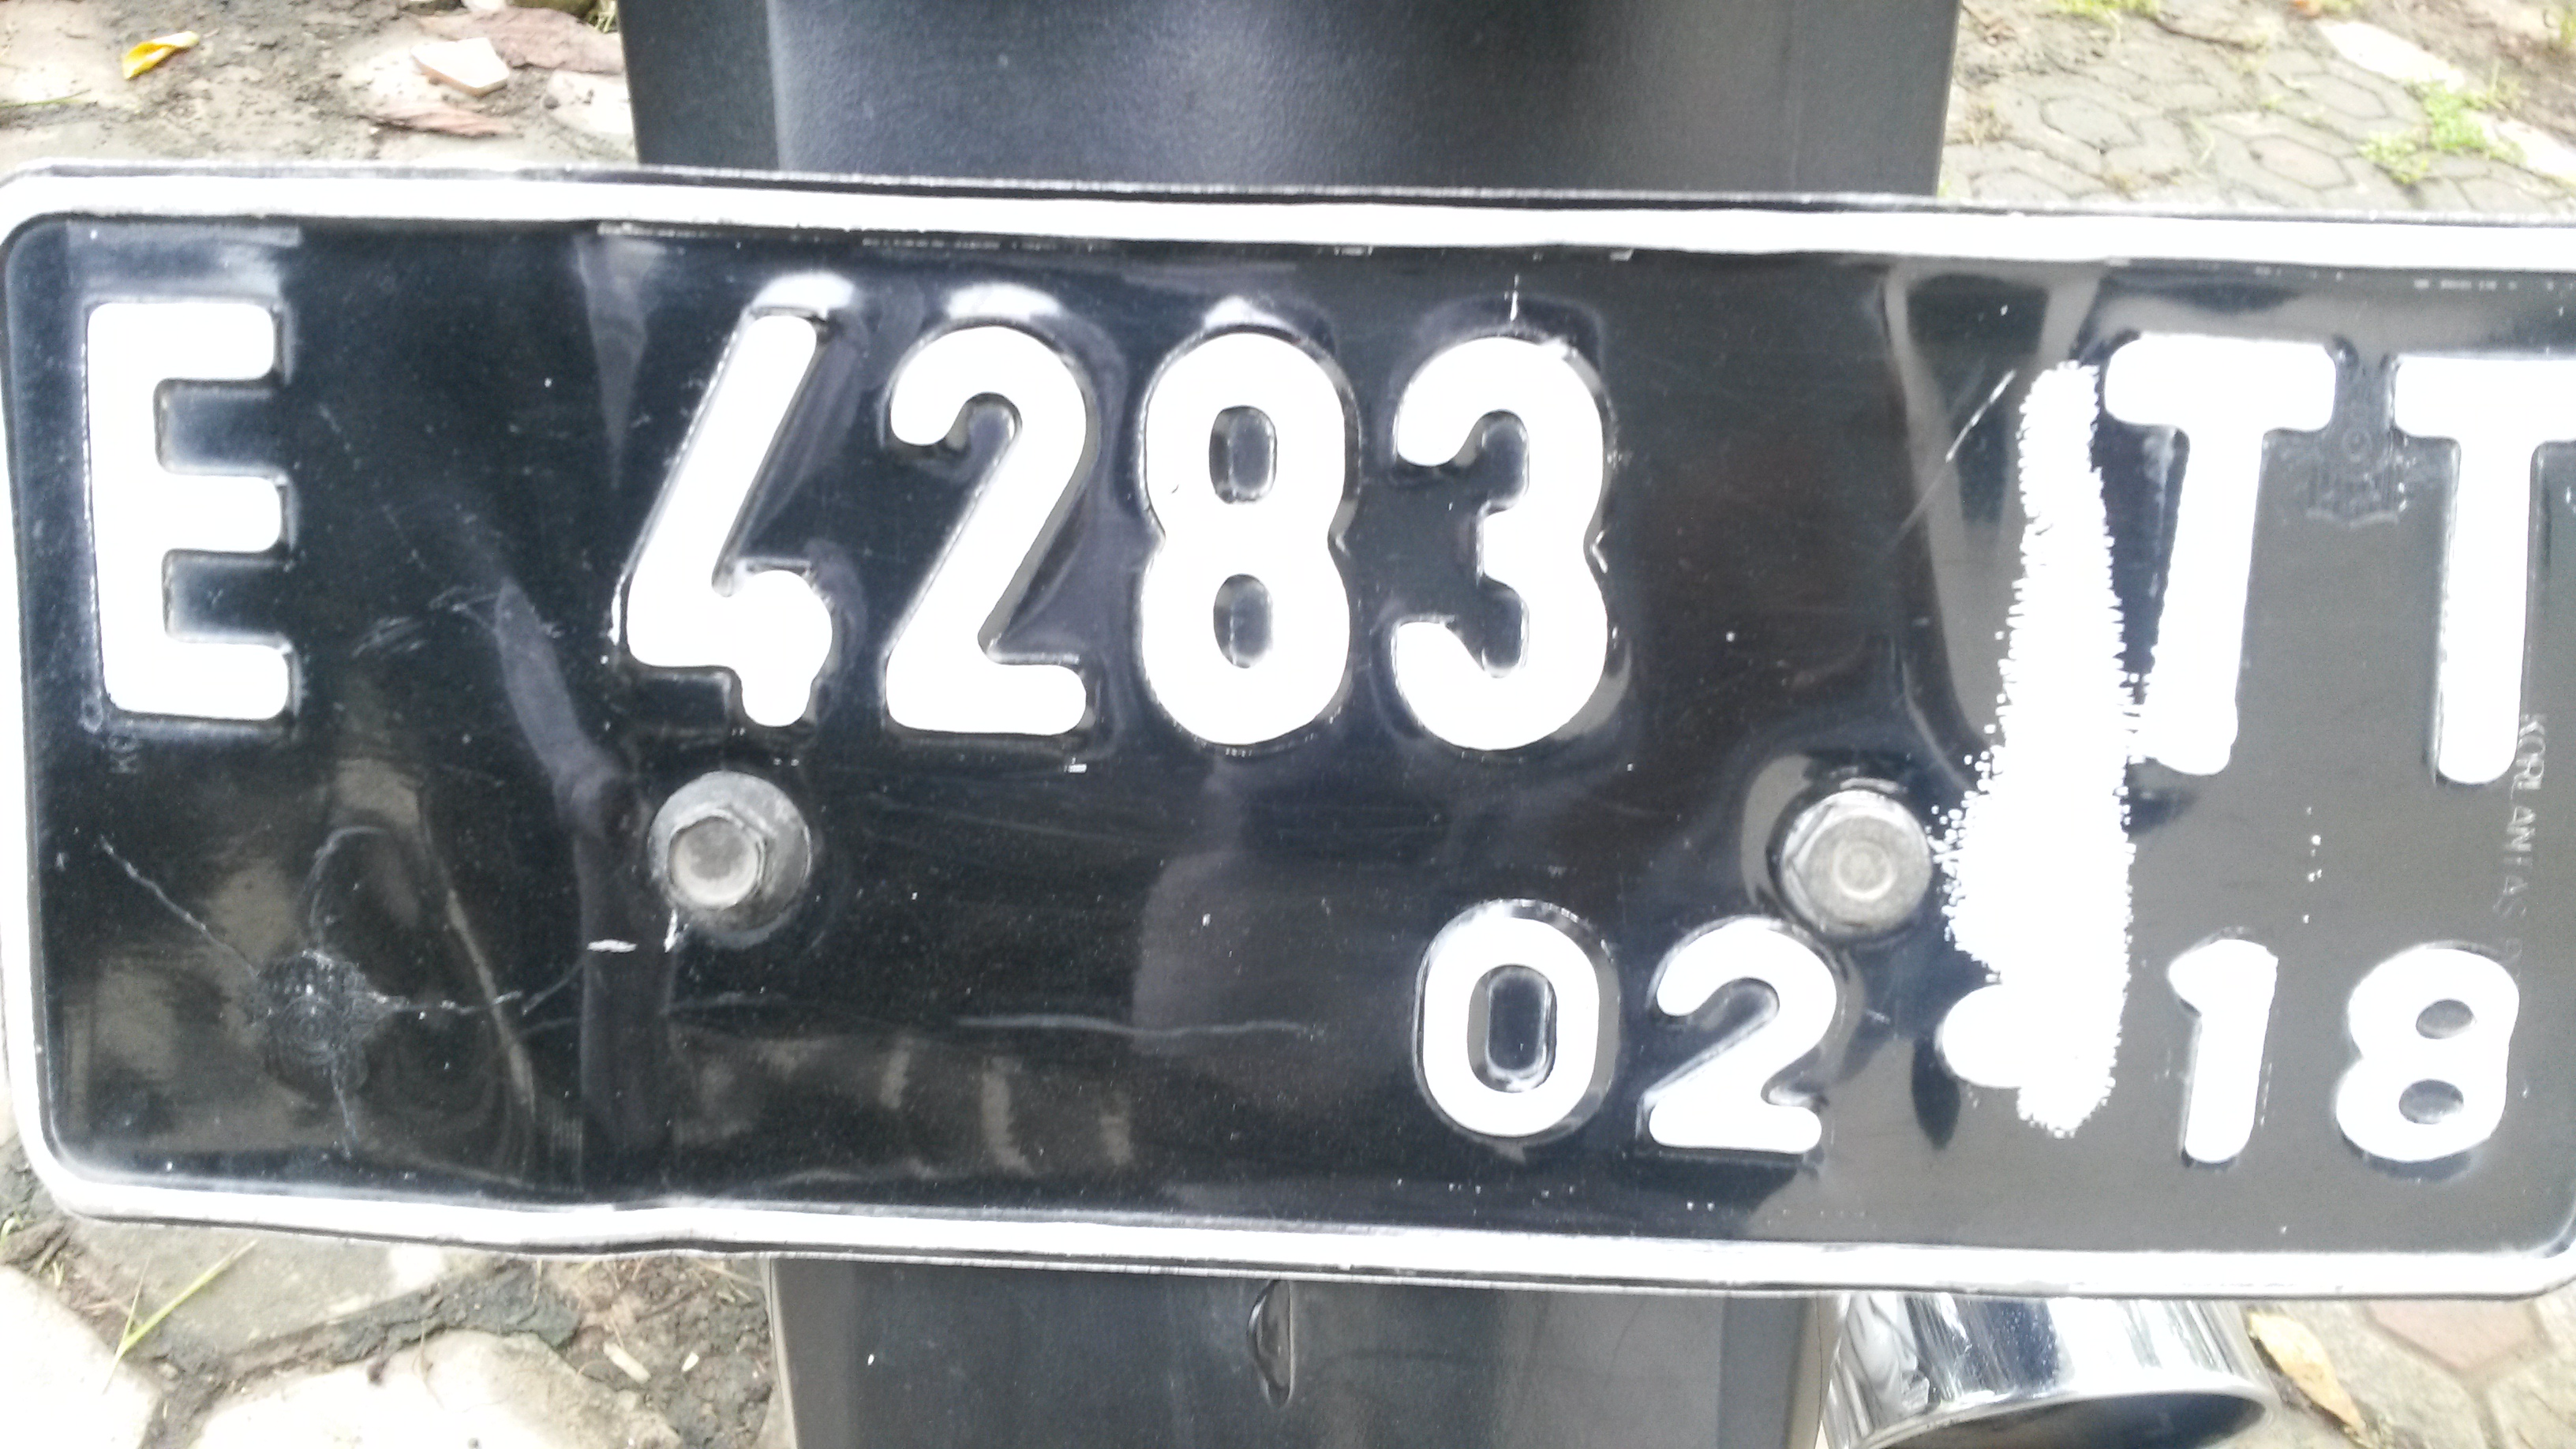plate: (1, 163, 2576, 1312)
